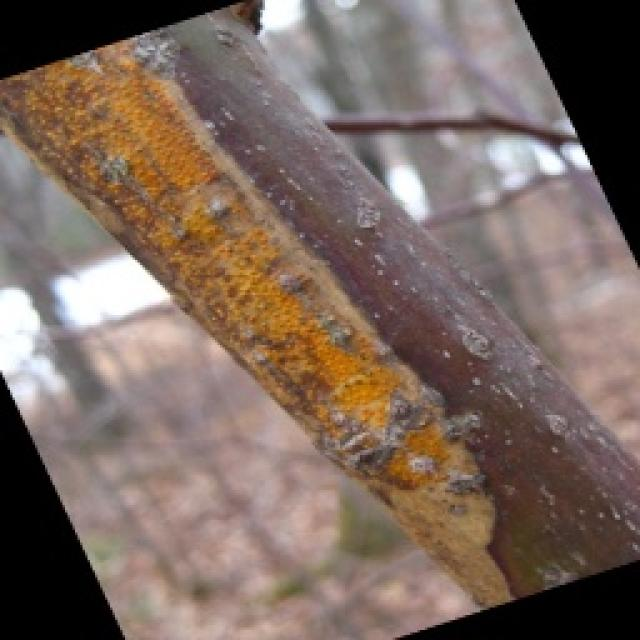Golden_canker: (0, 10, 518, 608)
